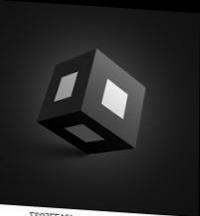cube: (36, 43, 151, 156)
